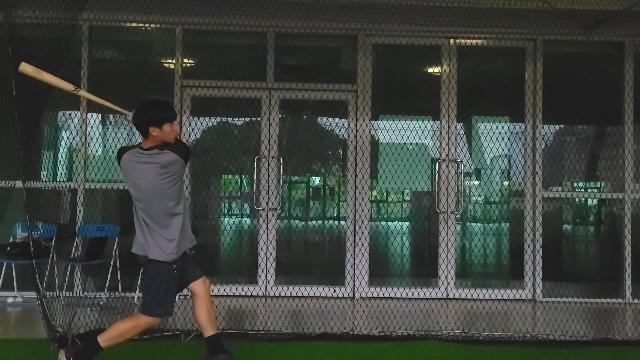bat: (18, 62, 130, 114)
